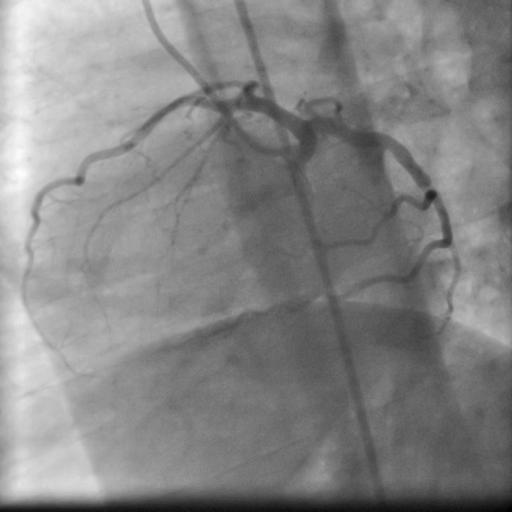Stenosis: (417, 180, 438, 191)
